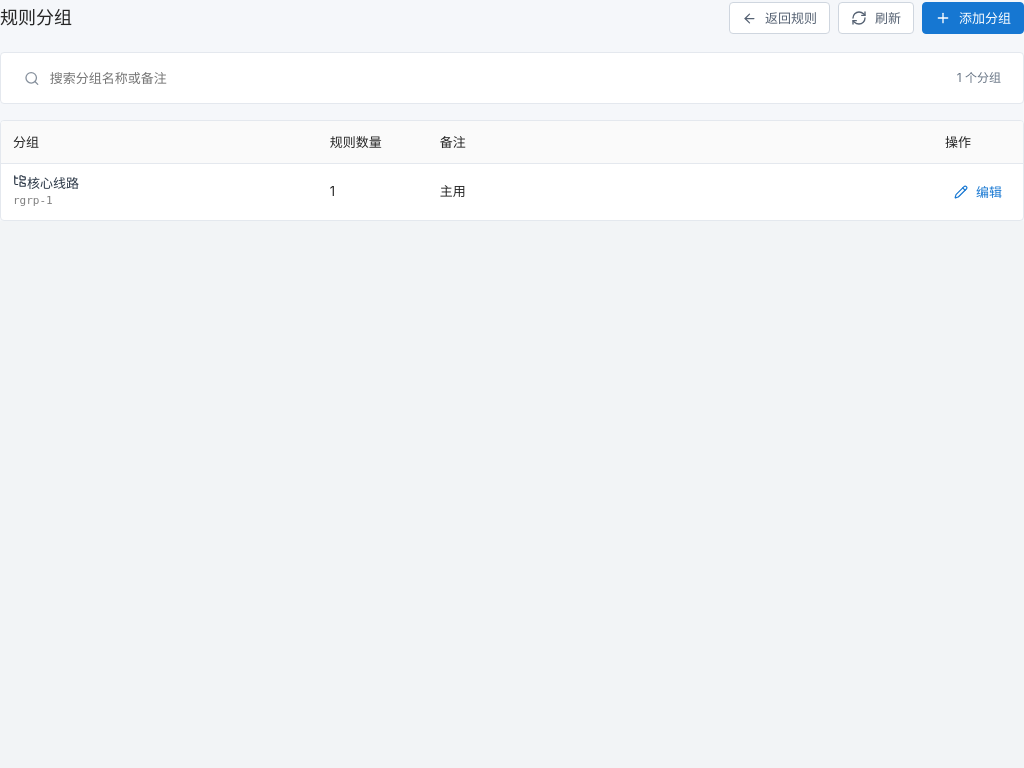
Scenario: RuleGroupsPage › shows persisted groups with rule counts and opens the CAS editor
The width and height of the screenshot is (1024, 768).
Expected: the table with class "rule-group-table" shows "1", left=330, top=183, right=335, bottom=199
Click the button "编辑" at [978, 192], box left=945, top=177, right=1011, bottom=207
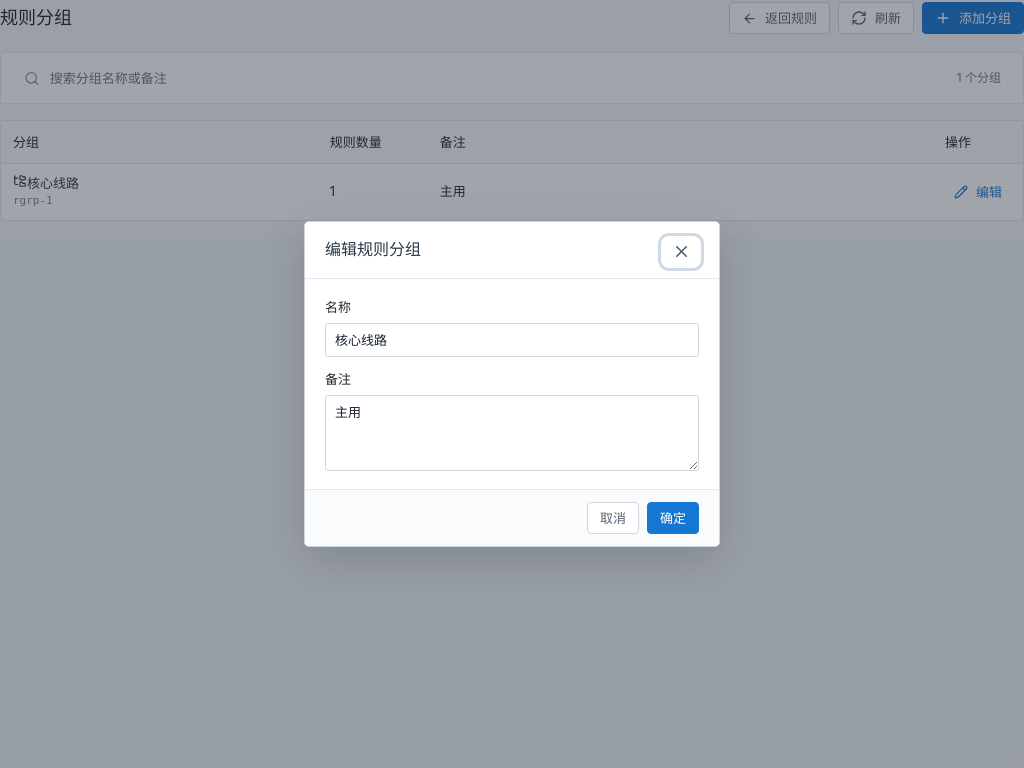
Result: the form with id "rule-group-editor" is shown at left=325, top=297, right=699, bottom=471
Result: the field labelled "名称" holds "核心线路" at left=325, top=323, right=699, bottom=357
